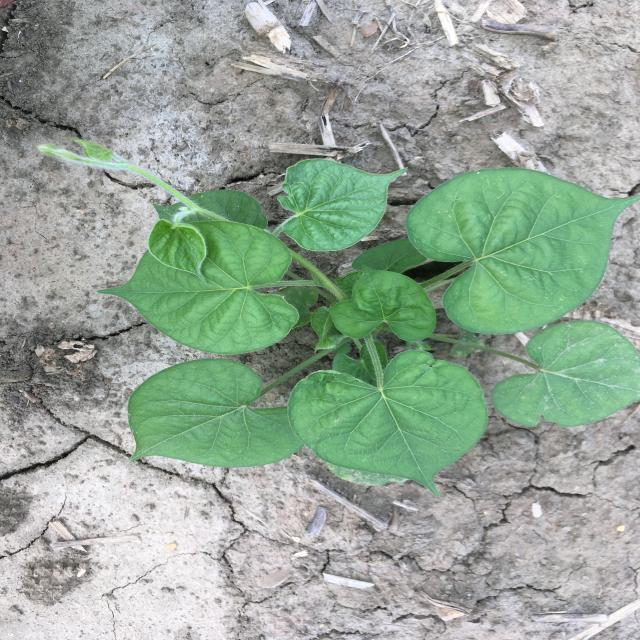MorningGlory: (37, 137, 640, 497)
